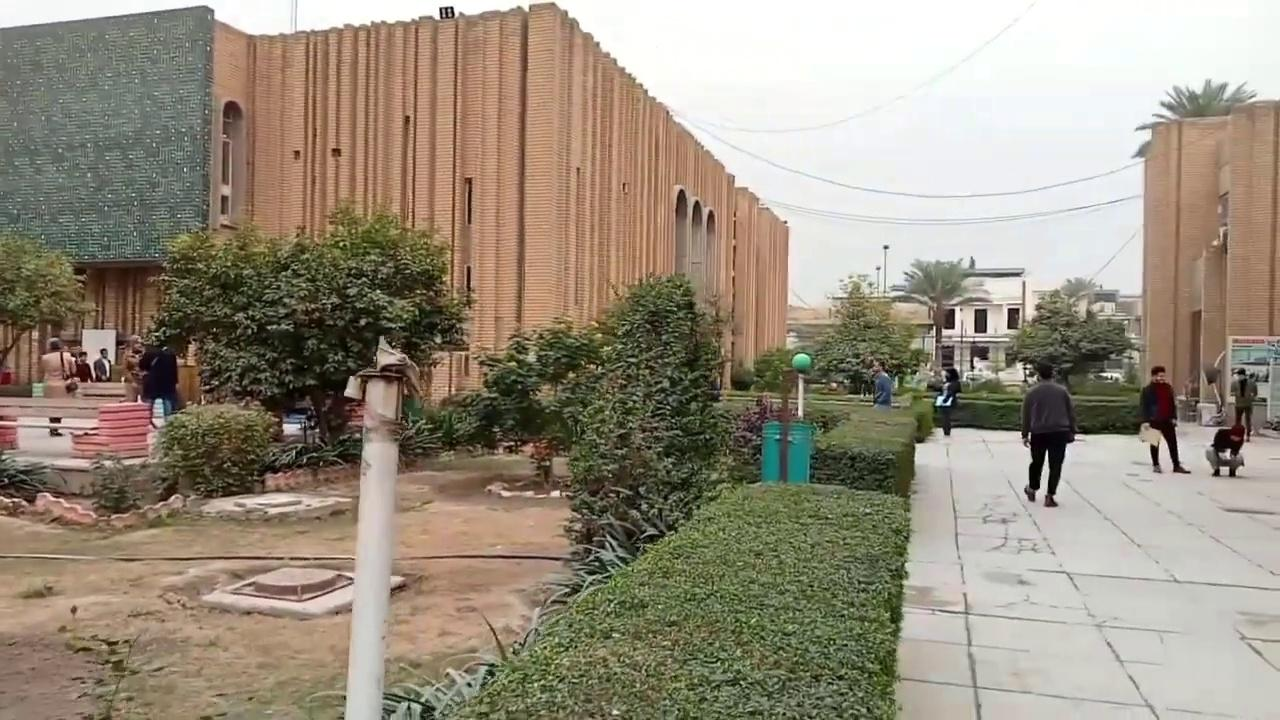car: (1090, 371, 1125, 383), (963, 369, 993, 383)
person: (1020, 360, 1077, 507), (1138, 365, 1191, 473), (38, 336, 78, 436), (137, 339, 179, 429), (1205, 421, 1245, 477), (1230, 367, 1257, 441), (933, 366, 961, 435), (870, 361, 893, 408), (93, 348, 111, 382), (74, 351, 93, 382)
tree: (142, 200, 477, 717), (143, 200, 475, 447), (551, 270, 732, 591), (474, 314, 603, 485), (1007, 283, 1141, 390), (809, 272, 925, 394), (0, 229, 87, 385), (150, 400, 280, 498), (888, 257, 978, 372), (1132, 76, 1257, 158), (1157, 77, 1256, 118)
